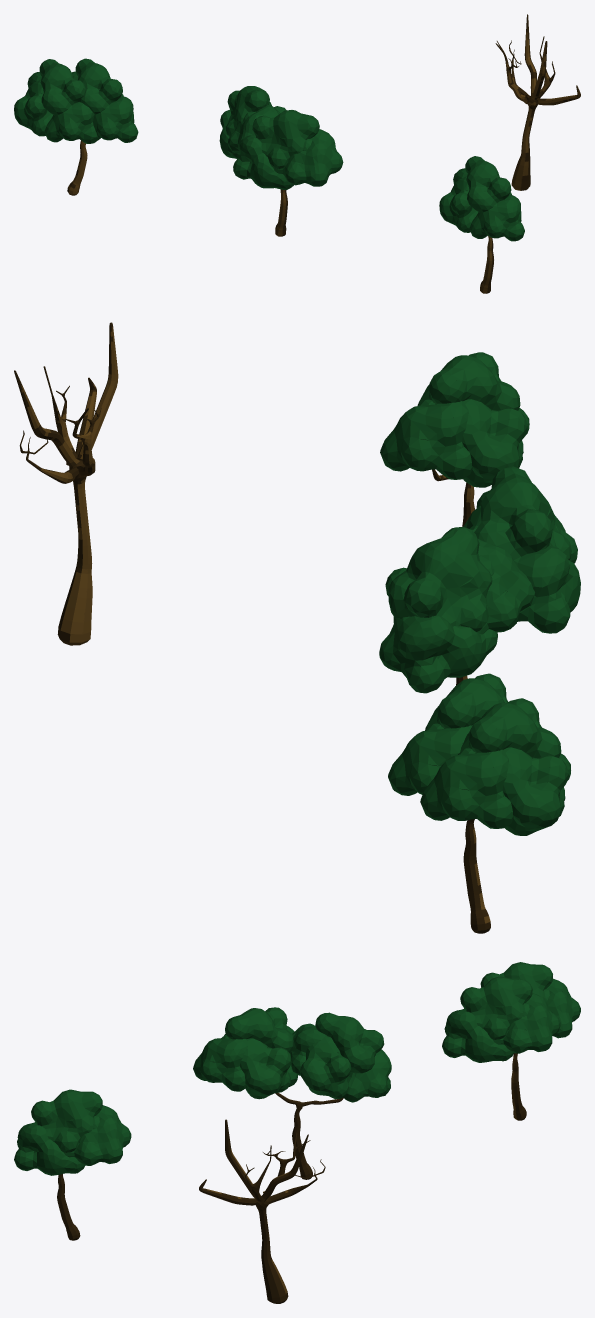
File: Arvores 03.fbx
The picture shows the model from 3 angles, top to bottom: view 1: azimuth 30°, elevation 25°; view 2: azimuth 150°, elevation 25°; view 3: azimuth 270°, elevation 25°; orthographic projection. The views are drawn at different scales.
Visible parts, largest first — view 1: Plane.001, Mball.002, Mball.016, Plane.004, Mball.004, Plane.002; view 2: Plane.001, Mball.004, Mball.016, Mball.002, Plane.004; view 3: Plane.001, Mball.016, Mball.004, Mball.002, Plane.004, Plane.002.
Part boxes in pixels (box(x1,y1,x2,y2)): Plane.001: box(14, 58, 138, 195); Mball.002: box(233, 110, 343, 189); Mball.016: box(439, 156, 524, 293); Plane.004: box(495, 14, 580, 190); Mball.004: box(219, 86, 286, 158); Plane.002: box(275, 189, 287, 236); Plane.001: box(388, 673, 570, 933); Mball.004: box(379, 526, 534, 693); Mball.016: box(380, 352, 529, 526); Mball.002: box(463, 466, 580, 633); Plane.004: box(14, 322, 118, 645); Plane.001: box(442, 962, 580, 1120); Mball.016: box(14, 1089, 131, 1240); Mball.004: box(290, 1012, 391, 1102); Mball.002: box(193, 1007, 297, 1099); Plane.004: box(199, 1119, 325, 1303); Plane.002: box(275, 1092, 343, 1179).
Bounding box in the file's own units: 5100 × 2004 × 5406.
3 materials, 3 textured.
